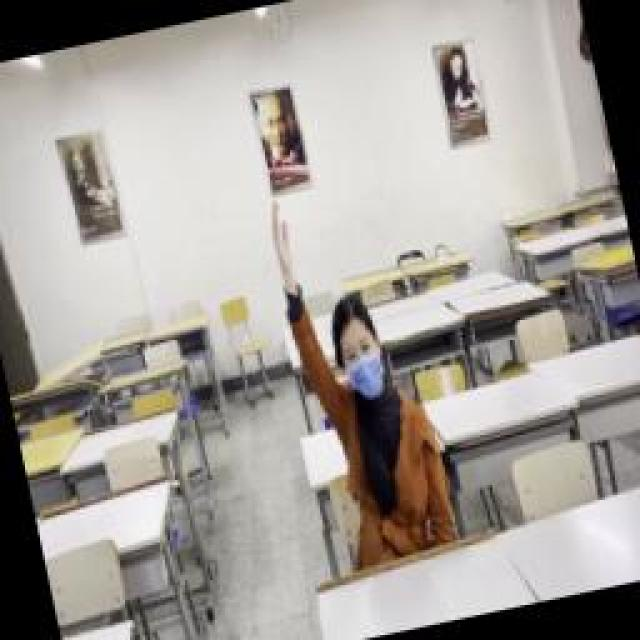study: (262, 175, 460, 563)
